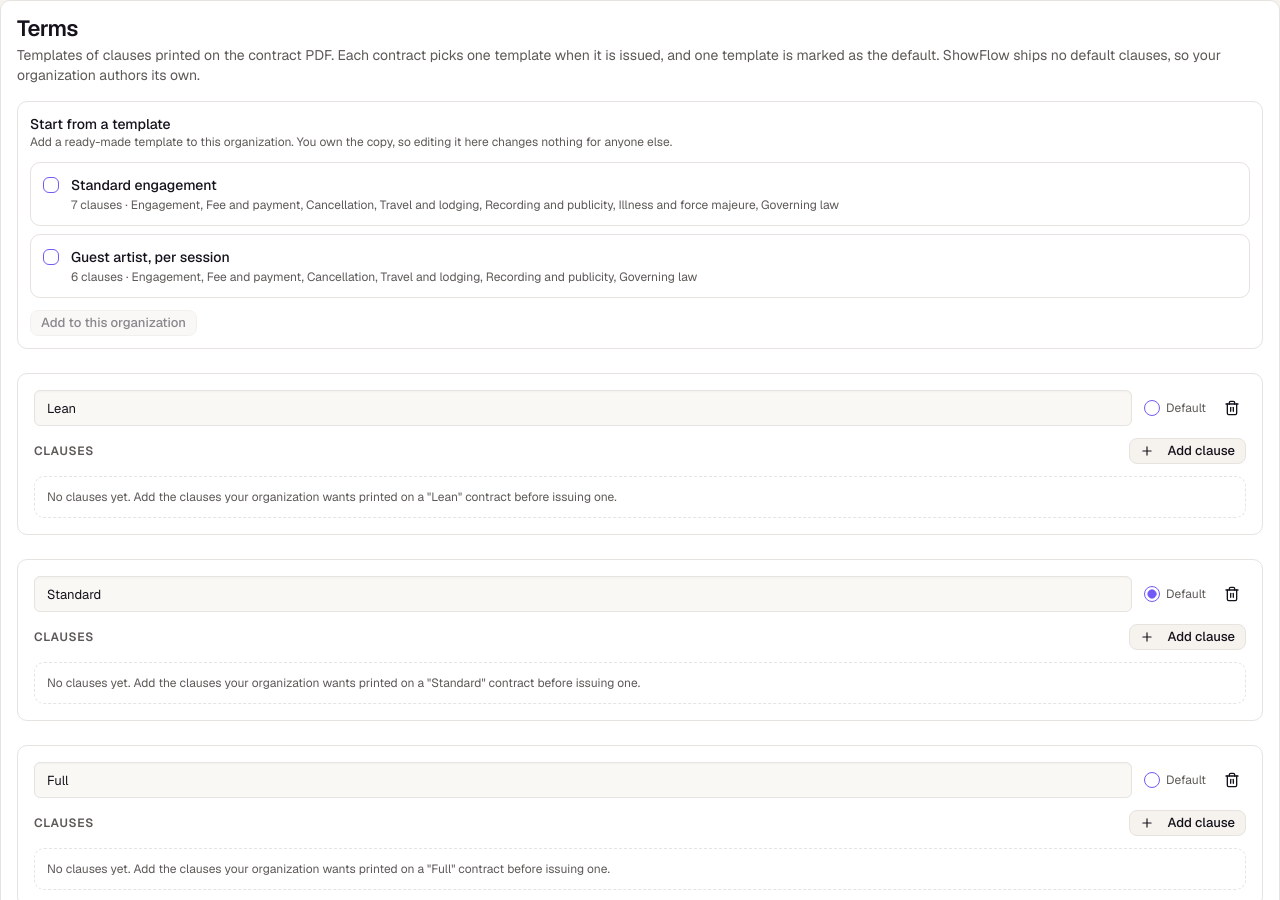
Scenario: TermsVariantsCard › renames a template via its name Input
Replace the text in the field showing "Lean" with "Basic": (583, 408) x1=34 y1=390 x2=1132 y2=426
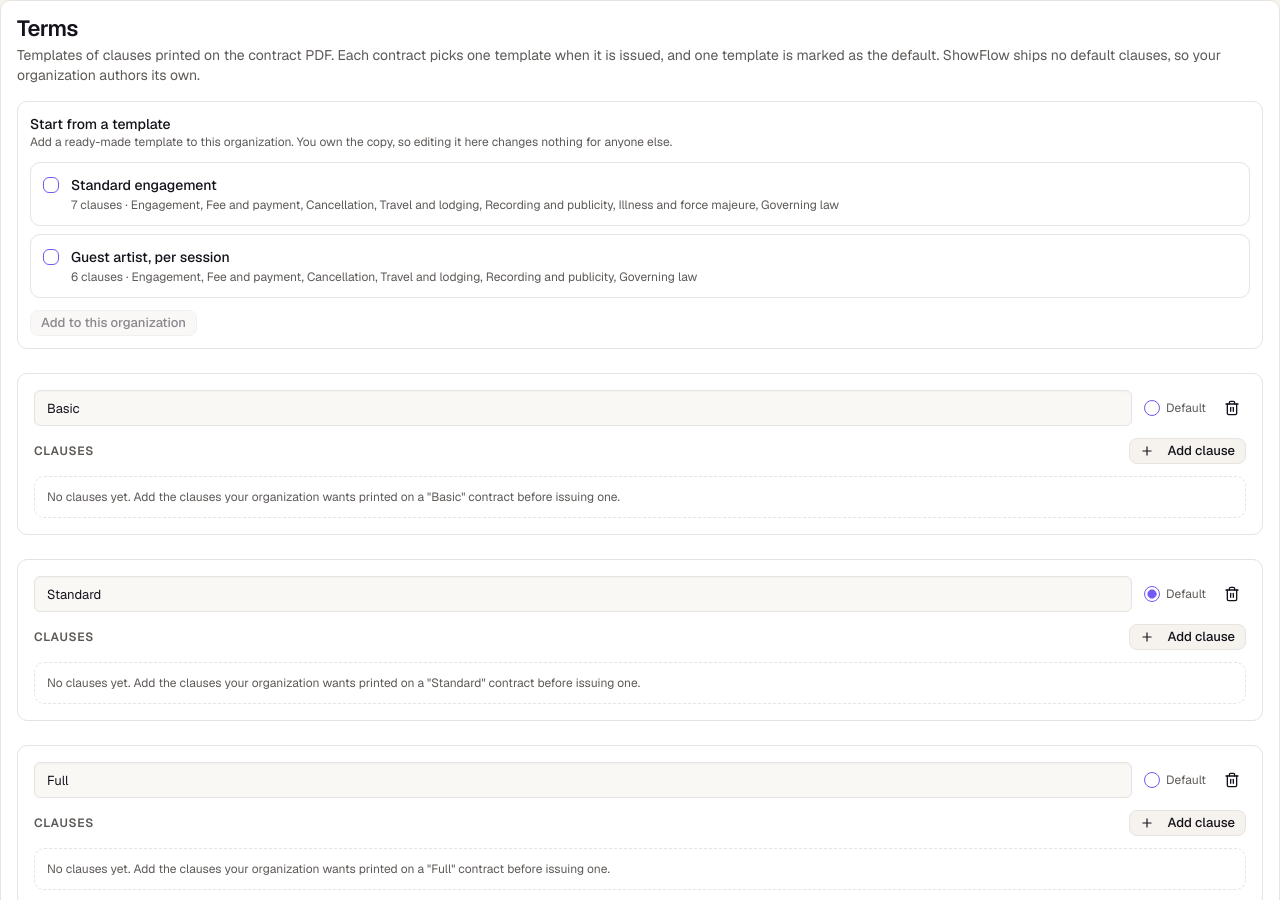
expect the text showing "Lean" is gone: met
